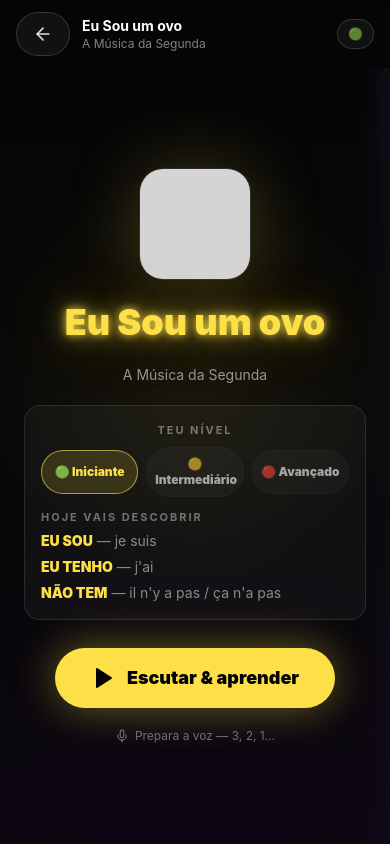
Scenario: KaraokePlayer — learningMode (v2, niveaux + zone basse) › force a tradução FR même quand les préférences globales du karaokê sont translate=off
The width and height of the screenshot is (390, 844).
Click the button "Escutar & aprender" at (195, 678), box [55,648,335,708]
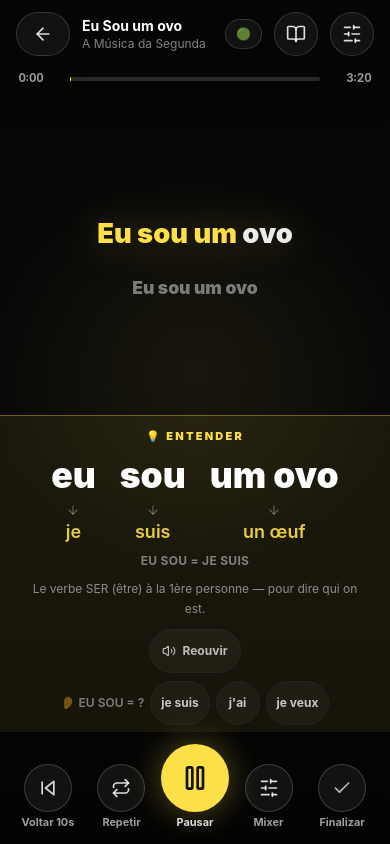
Now the element with test id "learning-zone" shows "EU SOU = JE SUIS", box [0,415,389,732]
